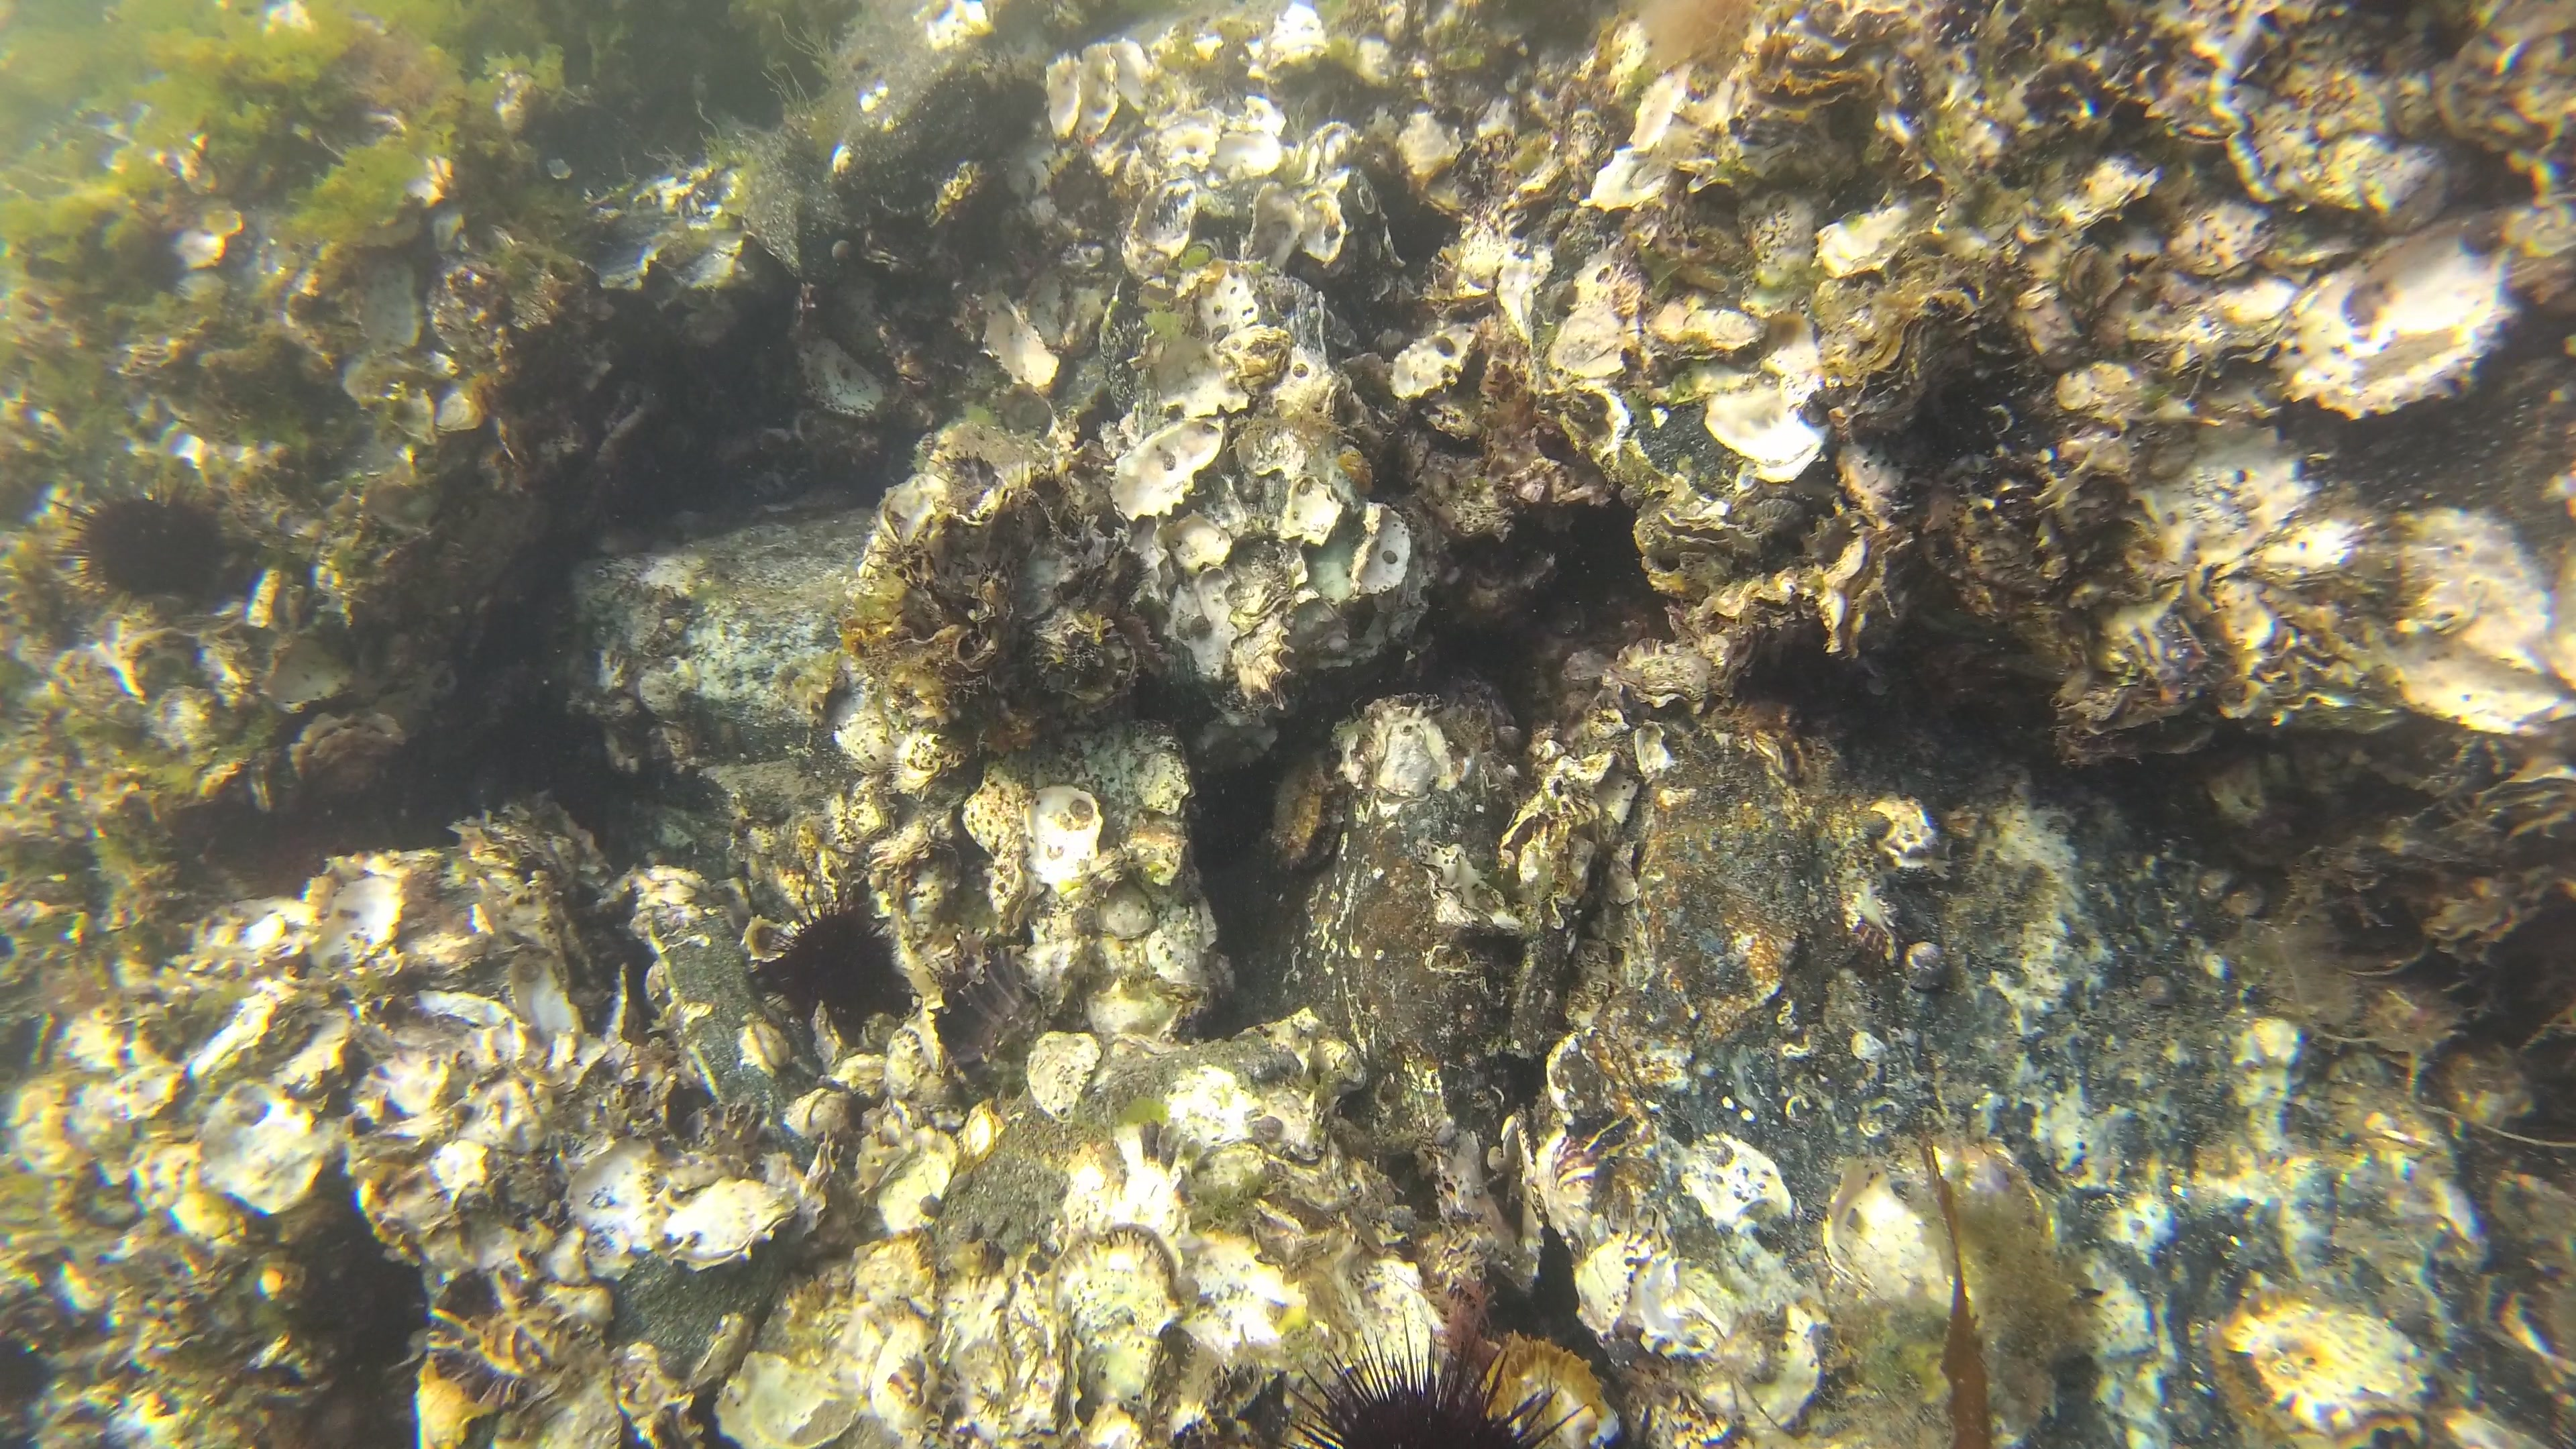echinus: (1295, 1315, 1578, 1449), (48, 481, 246, 616), (761, 892, 913, 1039)
